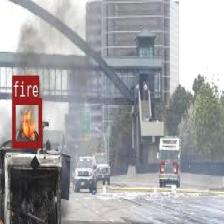fire: (12, 98, 41, 146)
